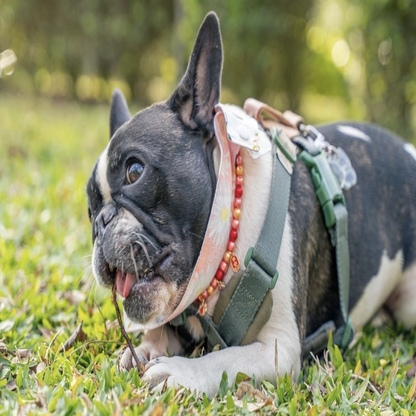bulldog: (82, 9, 416, 403)
